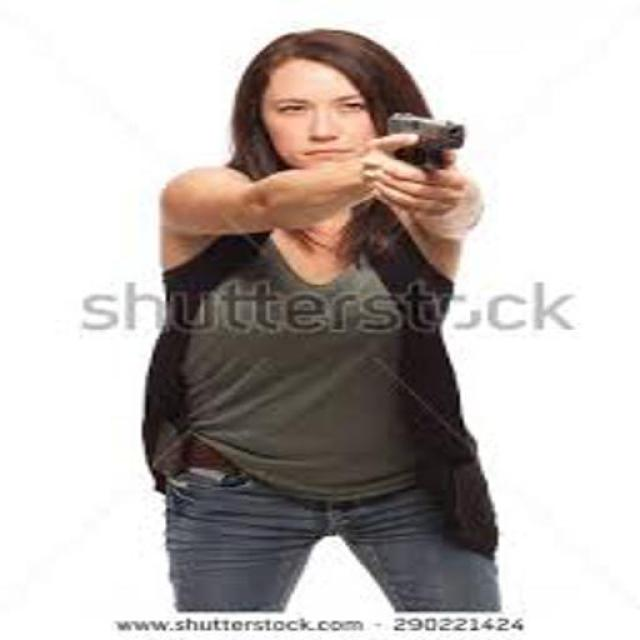pistol: (372, 112, 476, 185)
